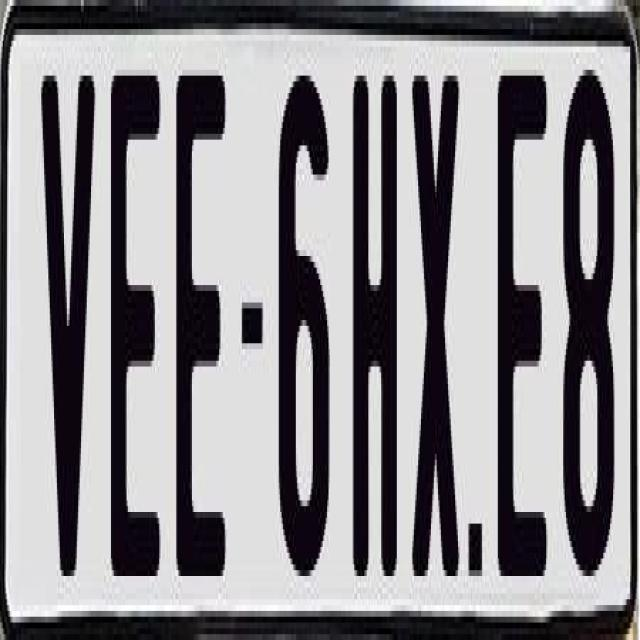6: (278, 70, 328, 600)
8: (559, 58, 616, 588)
E: (111, 70, 168, 594), (496, 64, 546, 576), (176, 58, 225, 564)
H: (351, 63, 397, 564)
V: (39, 70, 100, 594)
X: (412, 75, 460, 606)
